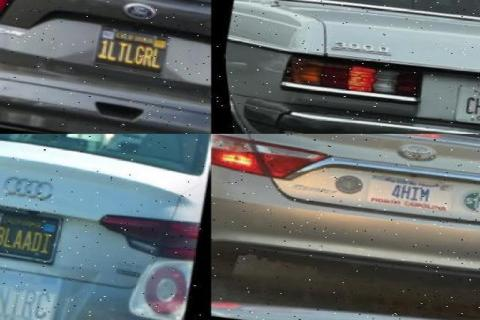LicensePlate: (84, 24, 167, 76), (358, 172, 449, 212), (0, 208, 64, 262), (446, 84, 478, 123)
